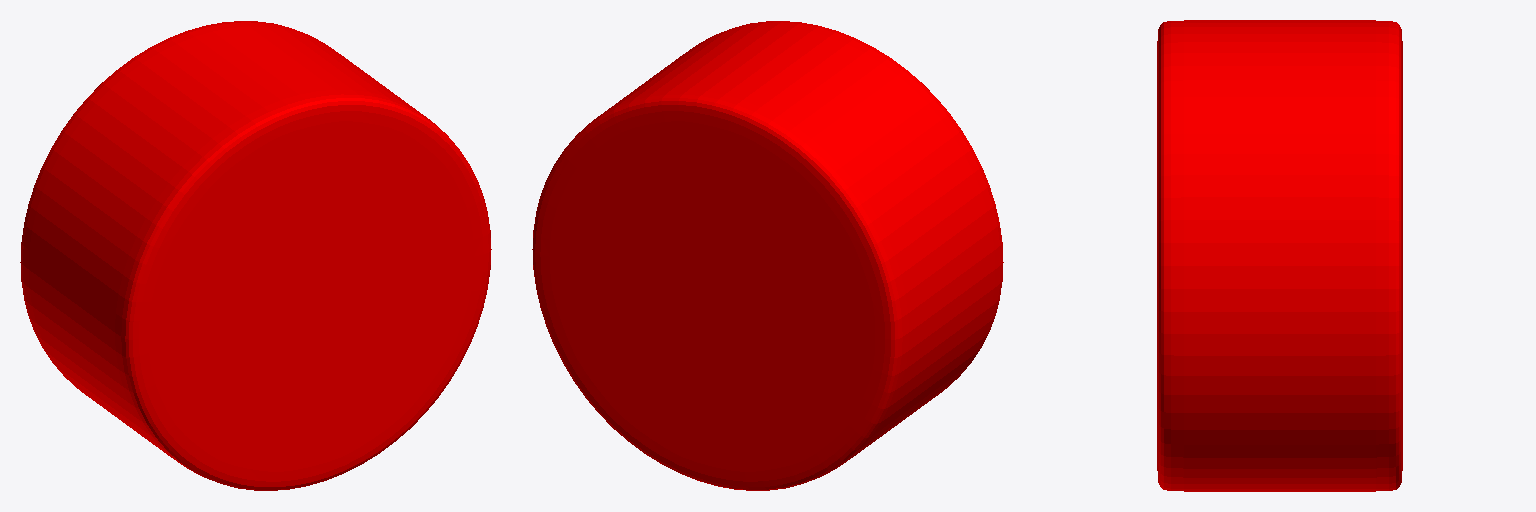
URDF robot description (p2.urdf):
<?xml version="0.0" ?>
<robot name="p2.urdf">
  <link name="baseLink">
    <contact>
      <lateral_friction value="1.0"/>
  <!--     <rolling_friction value="0.0"/>
      <spinning_friction value="0.01">
      <inertia_scaling value="3.0"/>
      <contact_cfm value="0.0"/>
      <contact_erp value="1.0"/> -->
    </contact>
    <inertial>
      <origin rpy="0 0 0" xyz="0 0 0"/>
       <mass value=".09"/>
       <inertia ixx="1" ixy="0" ixz="0" iyy="1" iyz="0" izz="1"/>
    </inertial>
    <visual>
      <origin rpy="0 0 0" xyz="0 0 0"/>
        <geometry>
      <mesh filename="P2.obj" scale=".06 .06 .06"/>
        </geometry>
        <material name="red">
          <color rgba="1 0 0 0"/>
        </material>
    </visual>
    <collision>
        <origin rpy="0 0 0" xyz="0 0 0"/>
        <geometry>
          <mesh filename="P2.obj" scale=".06 .06 .06"/>
        </geometry>
    </collision>
  </link>
</robot>

--- What the picture shows (computed from the rendered views, not written in the file) ---
3 views of the same robot in one strip: view 1: azimuth 30°, elevation 25°; view 2: azimuth 150°, elevation 25°; view 3: azimuth 270°, elevation 25° (orthographic).
Robot: p2.urdf — 1 links, 0 joints (none); root link baseLink; default pose: every joint at zero.
Links seen in each view (by area): view 1: baseLink; view 2: baseLink; view 3: baseLink.
Link boxes in pixels (left/top/right/bottom): baseLink: left=20, top=21, right=491, bottom=490; baseLink: left=532, top=21, right=1003, bottom=490; baseLink: left=1157, top=20, right=1402, bottom=491.
Size in the robot's own frame: 0.2302 by 0.1198 by 0.2302 metres.
Meshes: 1 distinct files referenced, 1 mesh visuals loaded (1 OBJ).